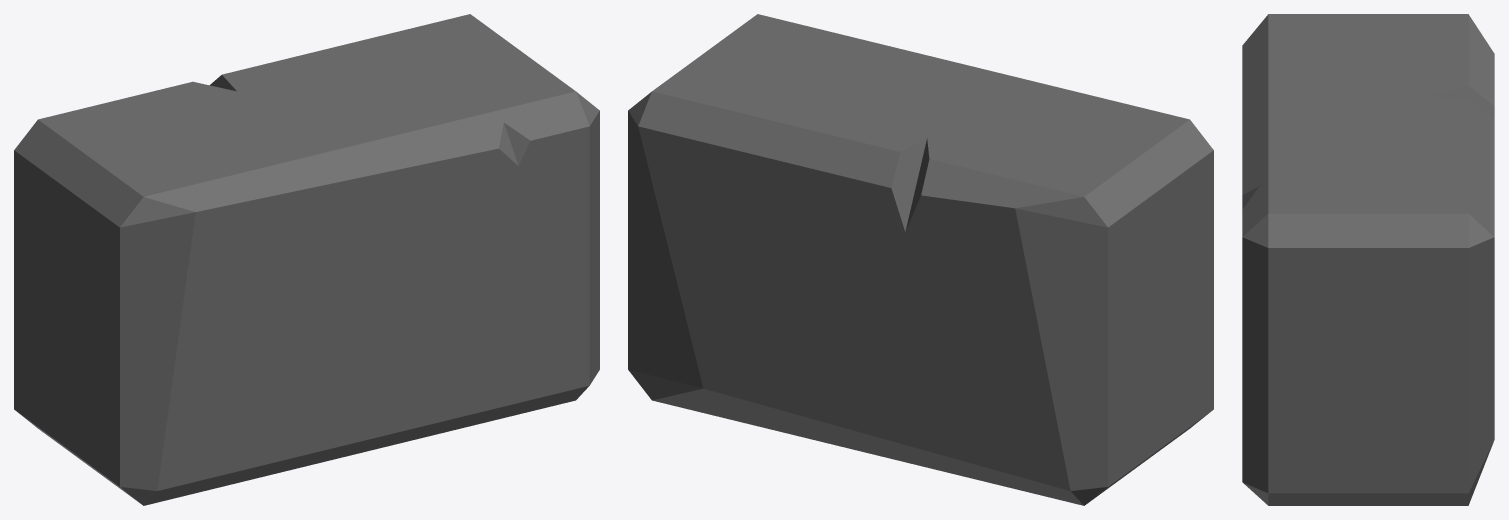
File: Brick002.gltf
3 renders of one model, left to right at view 1: azimuth 30°, elevation 25°; view 2: azimuth 150°, elevation 25°; view 3: azimuth 270°, elevation 25°, orthographic. The views are drawn at different scales.
Visible parts, largest first — view 1: WallBrick.002; view 2: WallBrick.002; view 3: WallBrick.002.
Part boxes in pixels (box(x1,y1,x2,y2)): WallBrick.002: box(14, 14, 599, 505); WallBrick.002: box(628, 14, 1213, 505); WallBrick.002: box(1242, 14, 1494, 505).
Bounding box in the file's own units: 0.52 × 0.32 × 0.25.
Materials: 1 (1 with a texture image).
